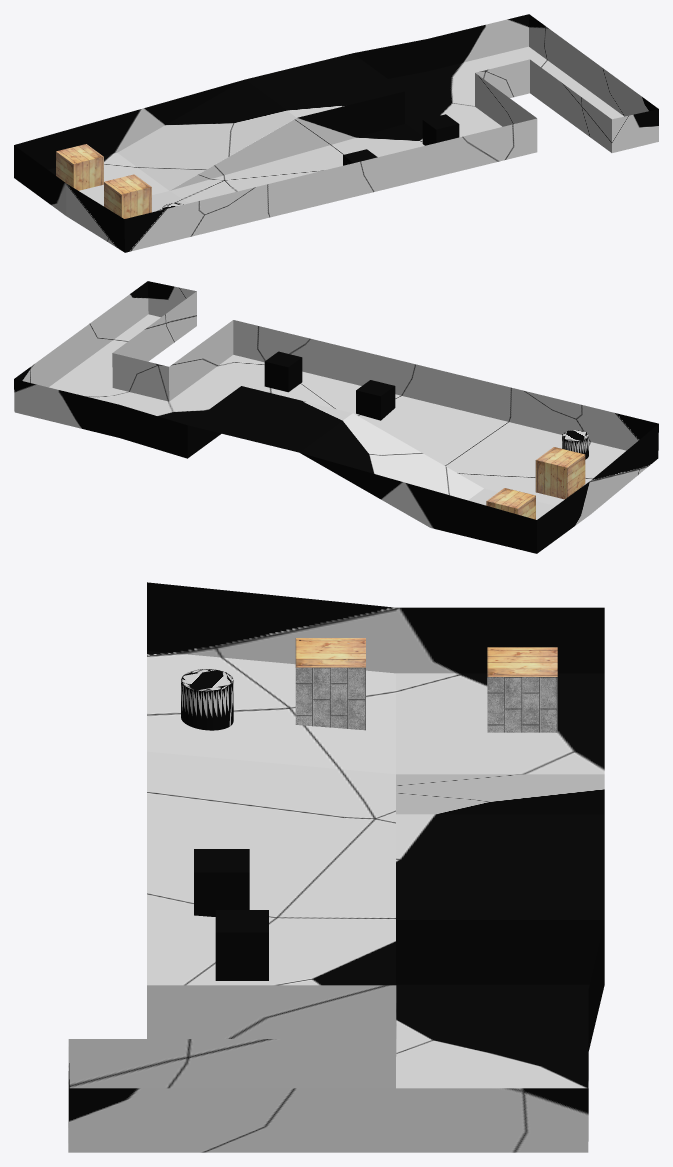
Rendered from Stage3.fbx.
3 views of the same model, one above another, from view 1: azimuth 30°, elevation 25°; view 2: azimuth 150°, elevation 25°; view 3: azimuth 270°, elevation 25° (orthographic). The views are drawn at different scales.
Visible parts, largest first — view 1: Plane, Cube.001, Cube; view 2: Plane, Cube, Cube.001; view 3: Plane, Cube, Cube.001.
Part boxes in pixels (left/top/right/bottom): Plane: left=14, top=14, right=658, bottom=252; Cube.001: left=56, top=144, right=103, bottom=190; Cube: left=104, top=174, right=151, bottom=218; Plane: left=14, top=281, right=658, bottom=553; Cube: left=535, top=447, right=585, bottom=499; Cube.001: left=486, top=488, right=535, bottom=519; Plane: left=68, top=582, right=604, bottom=1152; Cube: left=295, top=638, right=365, bottom=730; Cube.001: left=487, top=647, right=557, bottom=732.
Bounding box in the file's own units: 67.64 × 5.97 × 30.49.
